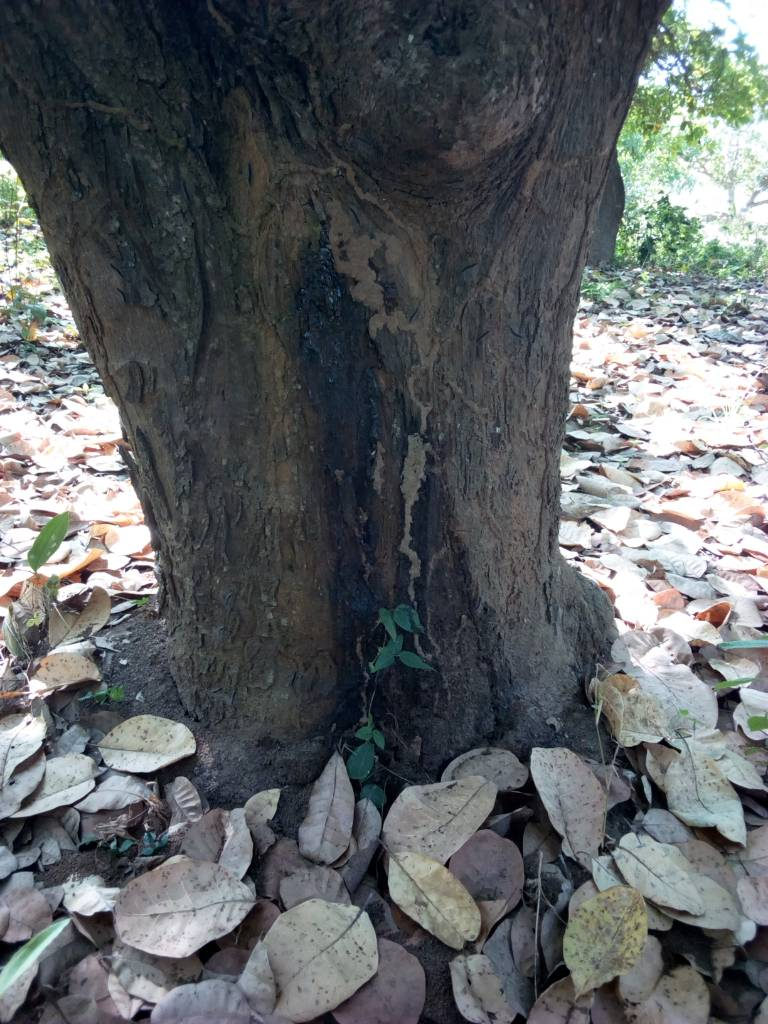Termites: (299, 157, 580, 642)
